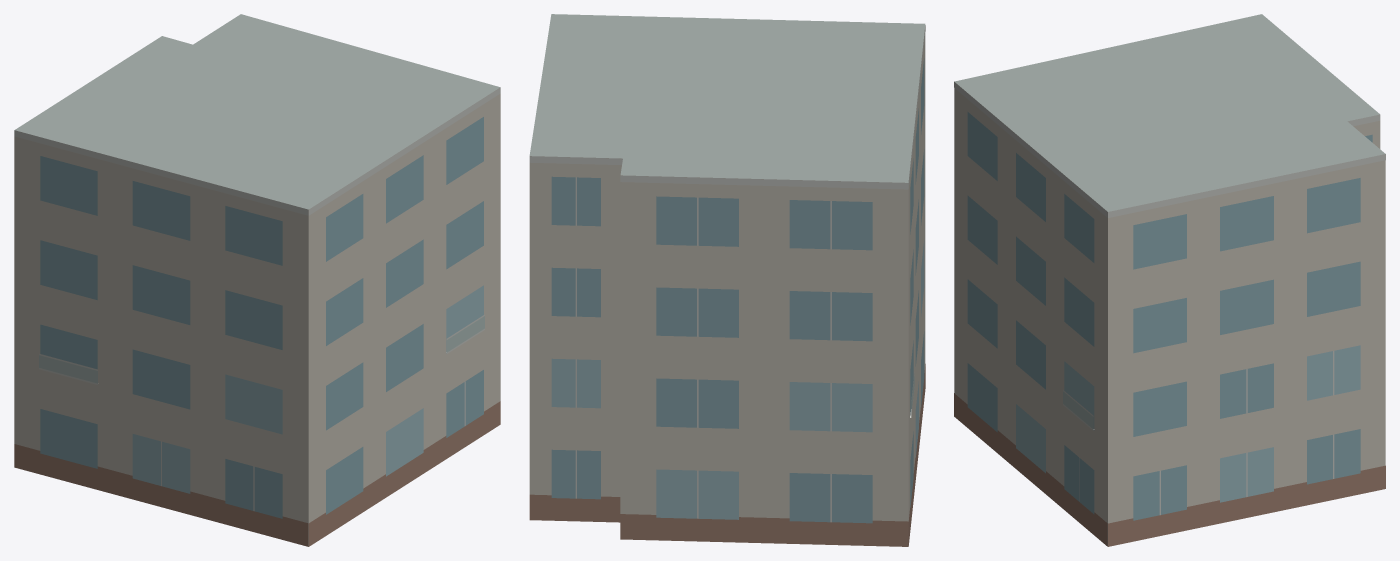
The model's file is survey-upis-32730118.glb.
3 views of the same model, side by side, from view 1: azimuth 30°, elevation 25°; view 2: azimuth 150°, elevation 25°; view 3: azimuth 270°, elevation 25° (orthographic). The views are drawn at different scales.
Visible parts, largest first — view 1: survey-upis-32730118.tmp; view 2: survey-upis-32730118.tmp; view 3: survey-upis-32730118.tmp.
Boxes of the visible parts, x1,y1,x2,y2 form: survey-upis-32730118.tmp: (14, 14, 500, 546); survey-upis-32730118.tmp: (529, 14, 925, 546); survey-upis-32730118.tmp: (954, 14, 1385, 546).
Size of the model in its own units: 16.74 by 13.2 by 15.43.
